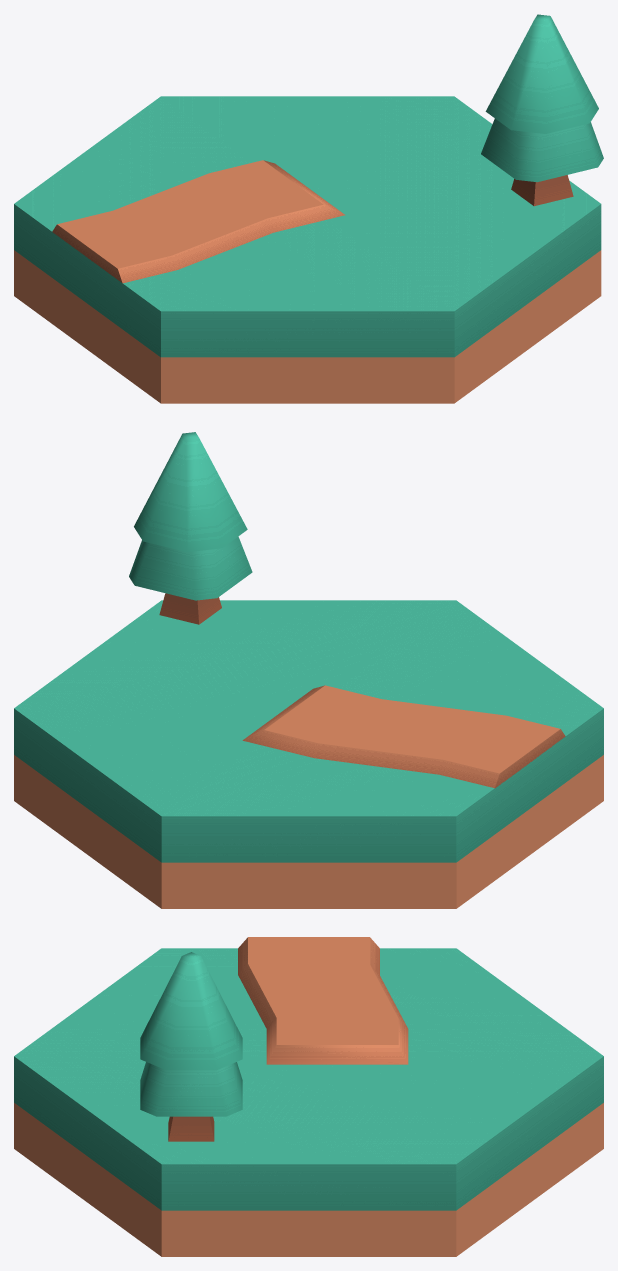
Rendered from grass-path-end-tree.glb.
3 renders of one model, top to bottom at view 1: azimuth 30°, elevation 25°; view 2: azimuth 150°, elevation 25°; view 3: azimuth 270°, elevation 25°, orthographic.
Parts seen in each view (by area): view 1: grass, path-end, unit-tree; view 2: grass, path-end, unit-tree; view 3: grass, path-end, unit-tree.
Boxes of the visible parts, x1,y1,x2,y2 form: grass: (14,96,601,403); path-end: (52,160,345,283); unit-tree: (481,14,603,206); grass: (14,600,603,908); path-end: (242,685,565,788); unit-tree: (129,432,252,624); grass: (14,948,603,1256); path-end: (238,937,408,1064); unit-tree: (140,952,242,1141).
Bounding box in the file's own units: 1 × 0.603 × 1.15.
Materials: 1 (1 with a texture image).
